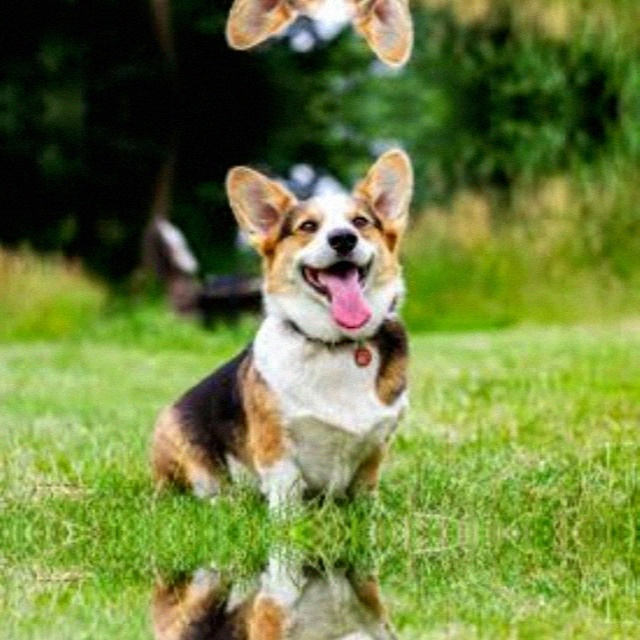dog: (140, 131, 430, 510), (140, 555, 431, 640), (140, 0, 431, 82)
